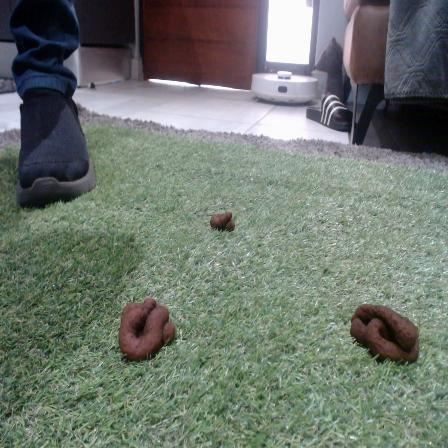dog-poop: (340, 293, 426, 362), (116, 290, 176, 361), (205, 208, 245, 238)
